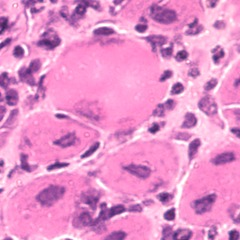New: (5, 169, 91, 240), (12, 111, 101, 166), (97, 140, 181, 198), (114, 1, 204, 28), (77, 213, 163, 240), (217, 55, 239, 139)
